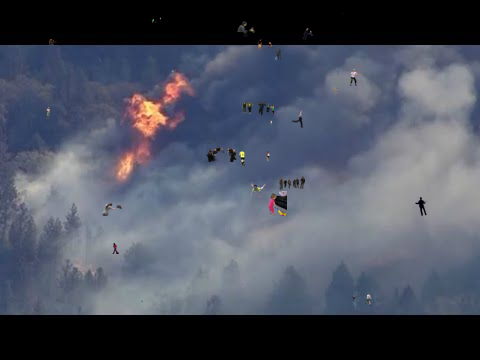Human: (330, 69, 360, 86), (277, 172, 305, 190), (239, 151, 270, 167), (206, 146, 237, 162), (242, 101, 274, 116), (268, 191, 287, 216), (291, 108, 306, 128), (237, 21, 255, 37), (248, 182, 266, 197), (102, 203, 122, 216), (352, 293, 372, 306), (415, 197, 427, 216), (255, 38, 273, 50), (302, 28, 314, 40), (275, 47, 282, 61), (112, 243, 119, 254), (152, 17, 161, 23), (49, 39, 57, 45), (46, 107, 50, 119), (334, 87, 338, 94), (204, 142, 212, 145), (7, 78, 10, 82), (270, 120, 272, 125), (140, 300, 143, 302), (51, 227, 53, 229), (342, 12, 343, 15), (55, 262, 56, 265)
